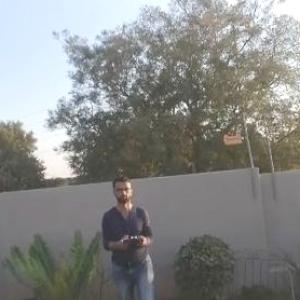follow: (99, 166, 163, 299)
